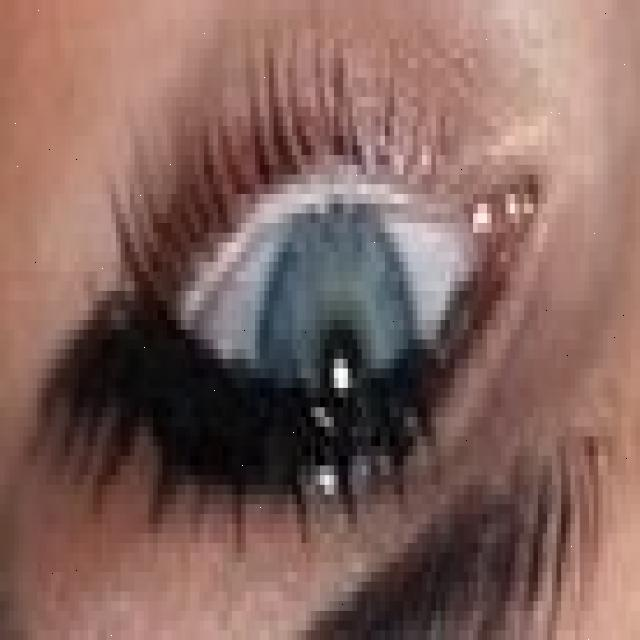Normal: (253, 194, 417, 508)
